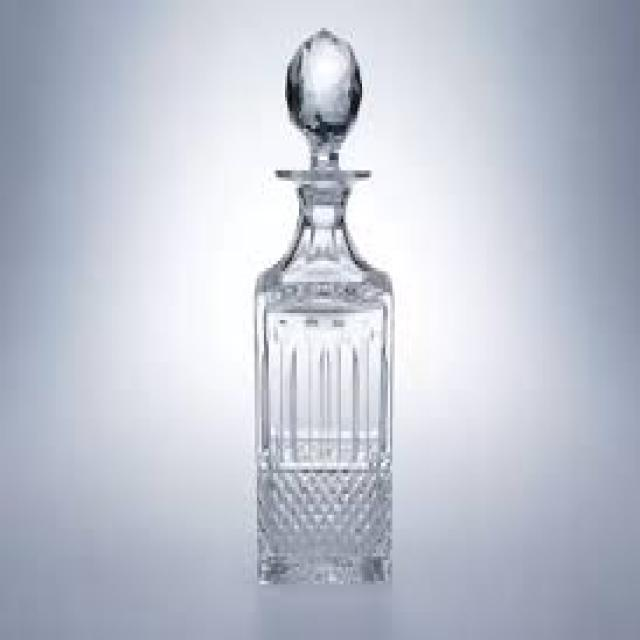glass: (250, 25, 390, 585)
